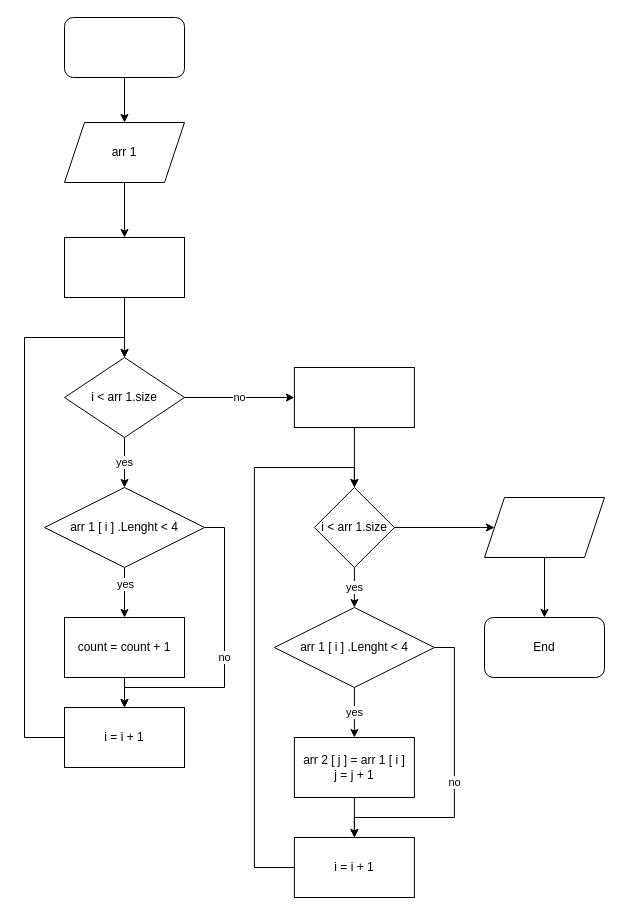
Image size: 622x915. Some labels were removed from this diagram. Here are the shapes that lost their labels. From the top down, the centre of each, then its label:
(x=124, y=47): Start
(x=124, y=267): i = 0 count = 0
(x=353, y=397): arr 2 arr 2.size = count i = 0 j = 0
(x=544, y=527): arr 2
